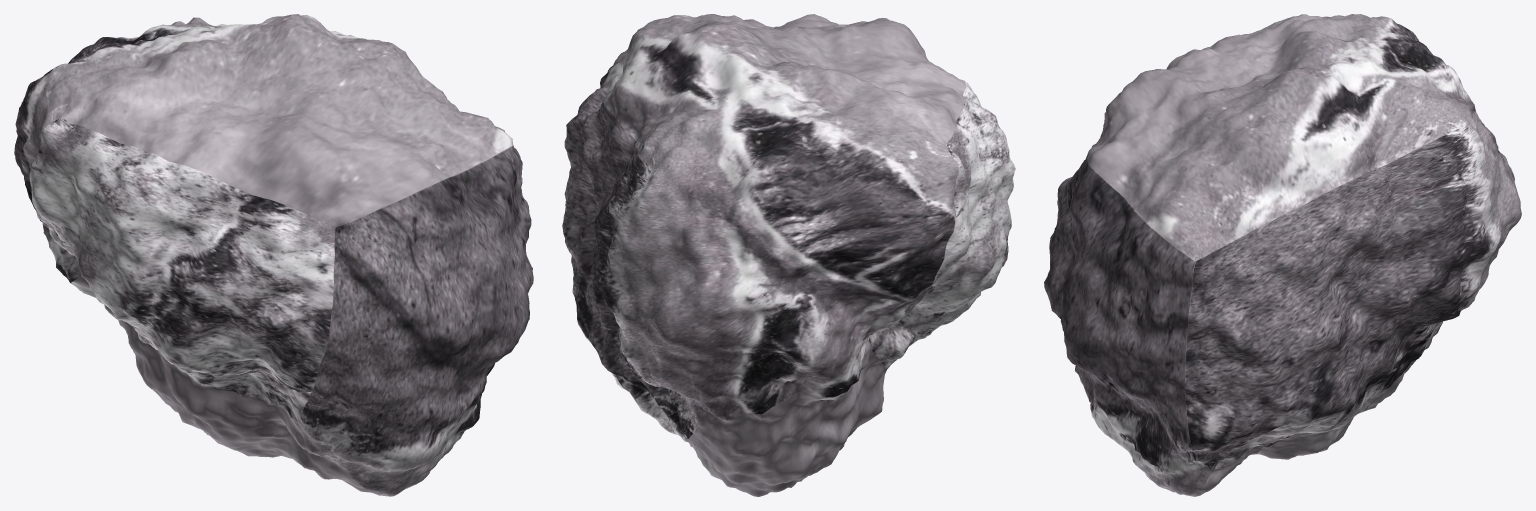
The model's file is CompNiq.glb.
3 views of the same model, side by side, from view 1: azimuth 30°, elevation 25°; view 2: azimuth 150°, elevation 25°; view 3: azimuth 270°, elevation 25° (orthographic). The views are drawn at different scales.
Visible parts, largest first — view 1: Cube; view 2: Cube; view 3: Cube.
Boxes of the visible parts, x1,y1,x2,y2 form: Cube: [14, 14, 533, 496]; Cube: [562, 14, 1015, 496]; Cube: [1044, 14, 1521, 496].
Size of the model in its own units: 0.6916 by 0.688 by 0.7401.
Materials: 1 (1 with a texture image).
